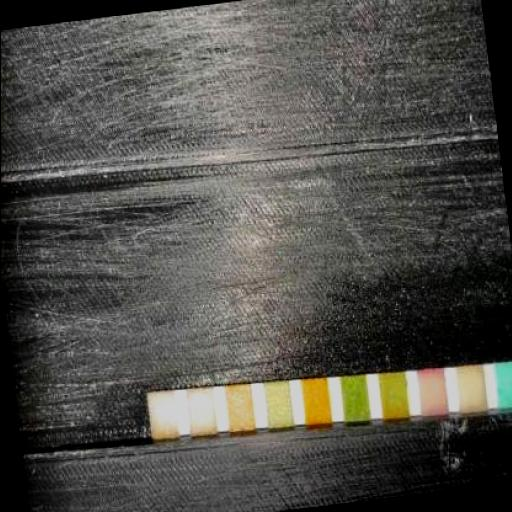Bilirubin: (460, 367, 482, 413)
Blood: (342, 376, 364, 420)
Glucose: (498, 362, 512, 407)
Ketone: (422, 370, 442, 415)
Leukocytes: (150, 392, 174, 438)
Nitrite: (192, 390, 212, 435)
Protein: (268, 383, 288, 427)
SpGravity: (382, 375, 404, 418)
Urobilinogen: (230, 386, 252, 430)
pH: (304, 380, 326, 424)
strip: (147, 362, 512, 438)
